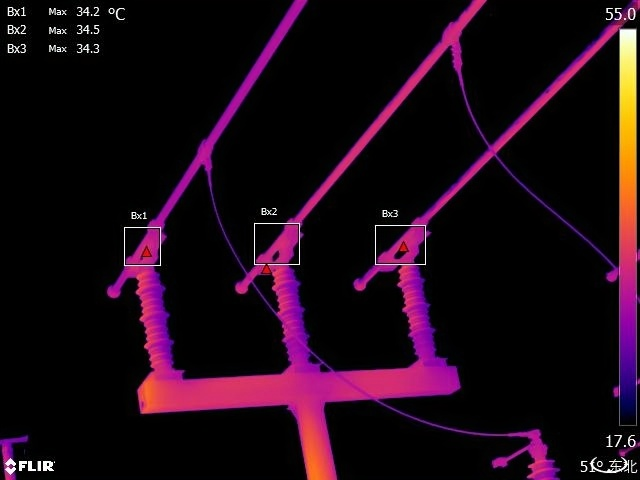clamp: (436, 19, 481, 82), (194, 133, 222, 181)
post insulator: (135, 265, 181, 375), (396, 257, 443, 359), (267, 266, 316, 356), (521, 456, 560, 480)
switch: (486, 432, 554, 470)
